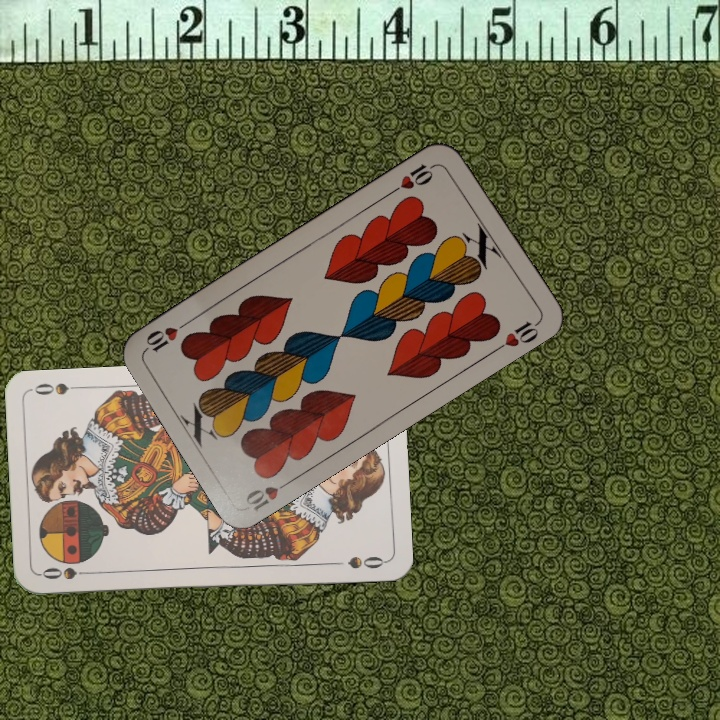H10: (241, 474, 297, 514), (387, 159, 441, 196)
SO: (38, 563, 97, 582)
